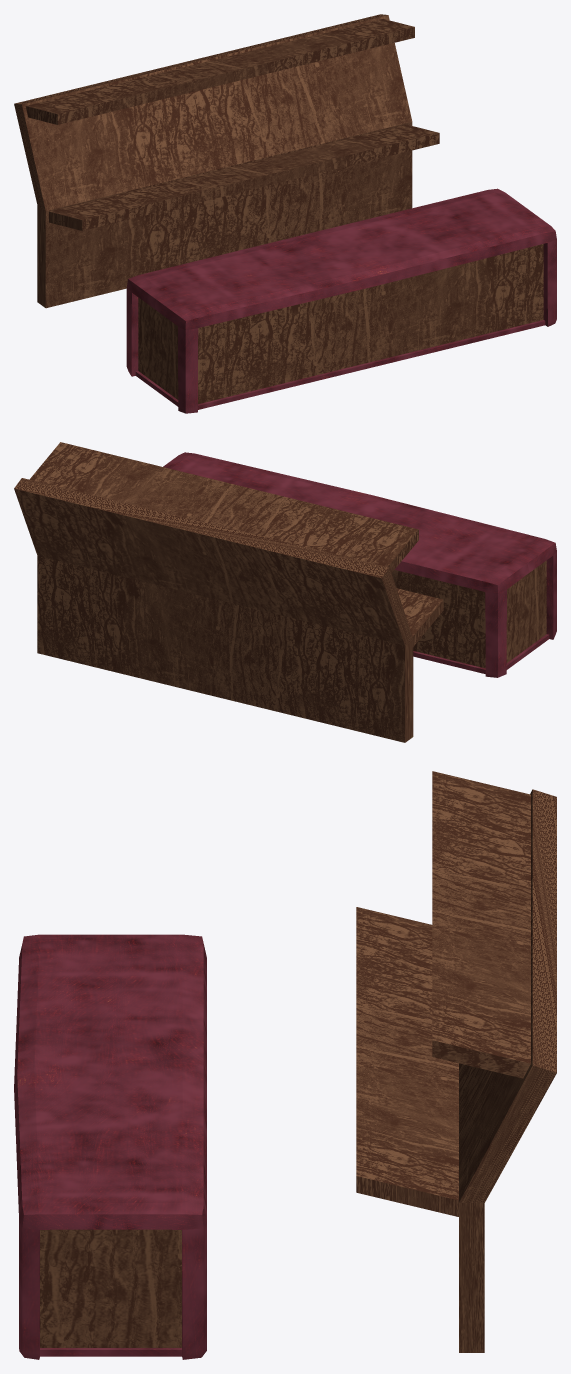
File: stand.fbx
3 renders of one model, top to bottom at view 1: azimuth 30°, elevation 25°; view 2: azimuth 150°, elevation 25°; view 3: azimuth 270°, elevation 25°, orthographic. The views are drawn at different scales.
Parts seen in each view (by area): view 1: stand; view 2: stand; view 3: stand.
Part boxes in pixels (bbox=[...]): stand: bbox=[14, 14, 556, 413]; stand: bbox=[14, 442, 556, 742]; stand: bbox=[14, 771, 556, 1359].
Size of the model in its own units: 12.79 by 6.58 by 10.39.
